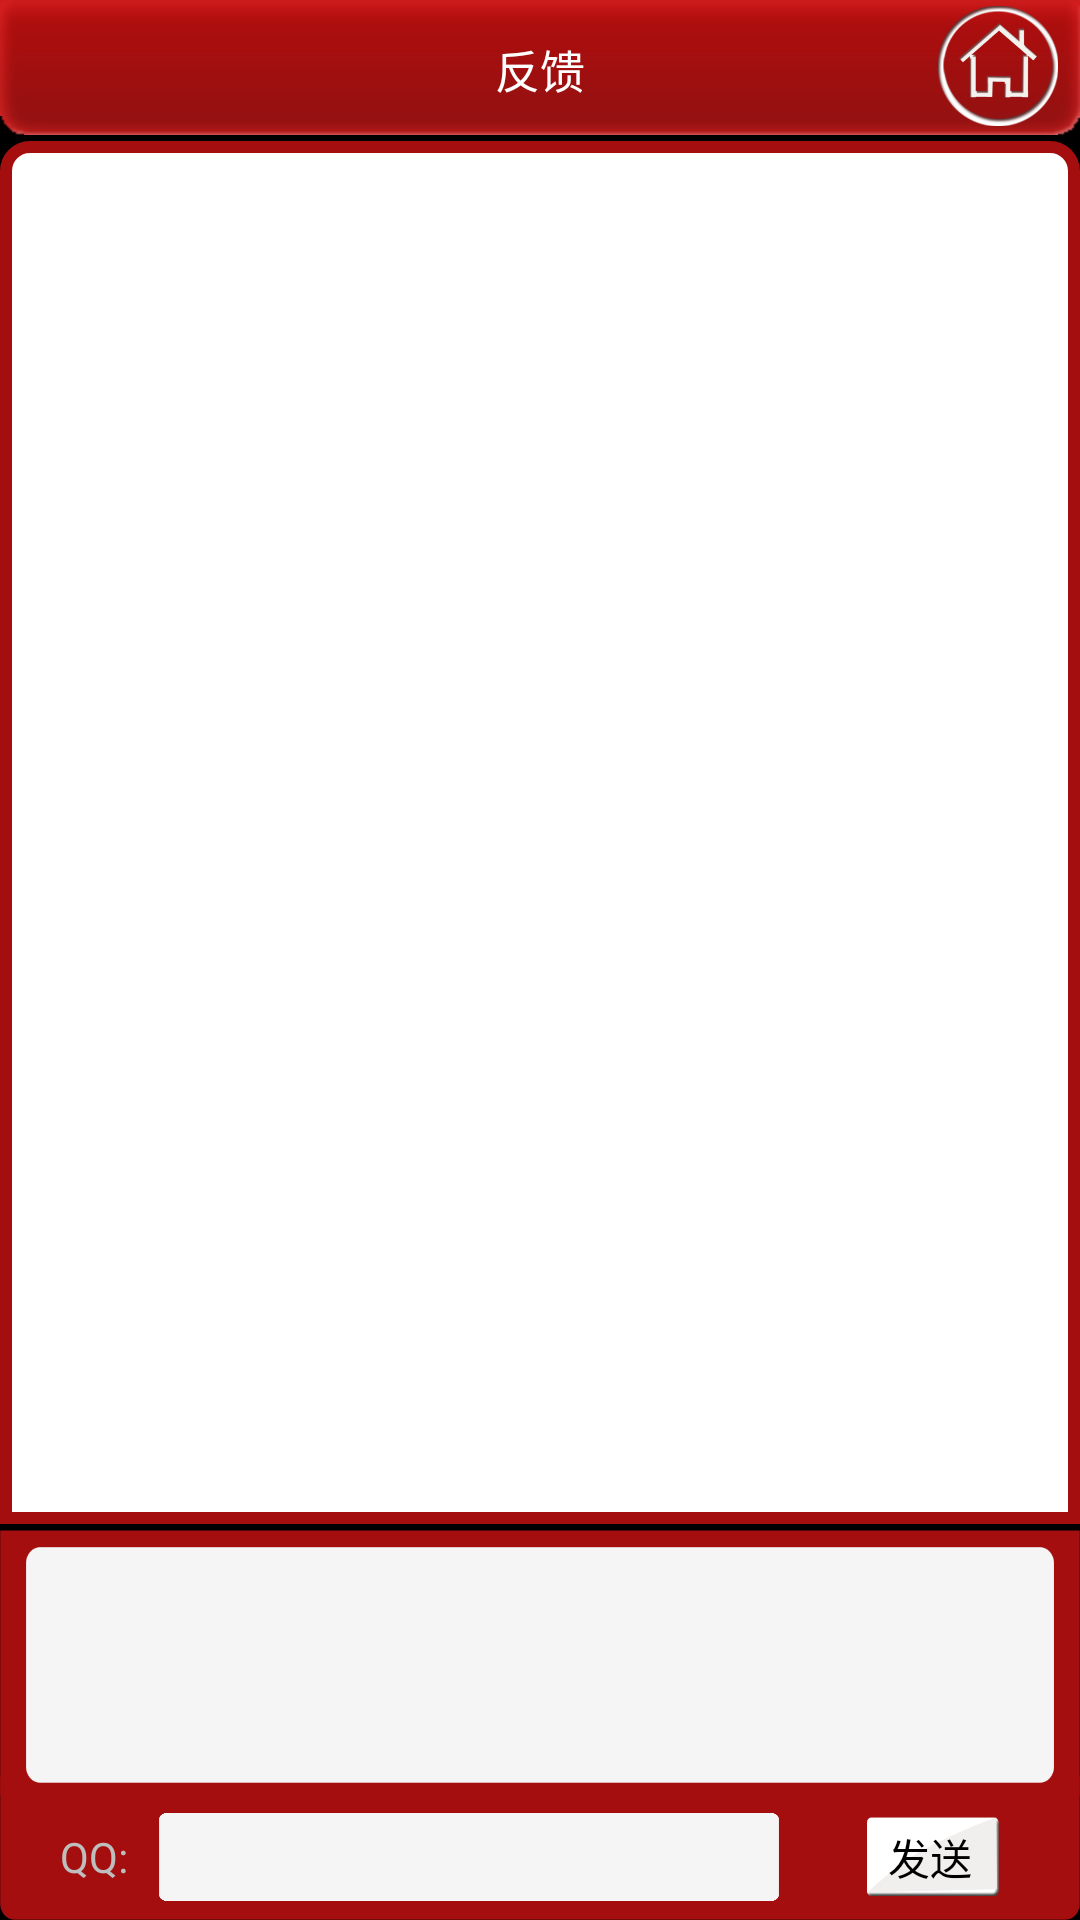

Named icons in this screenshot (1080 × 1920) and their centers, (x,y):
home: (998,66)
